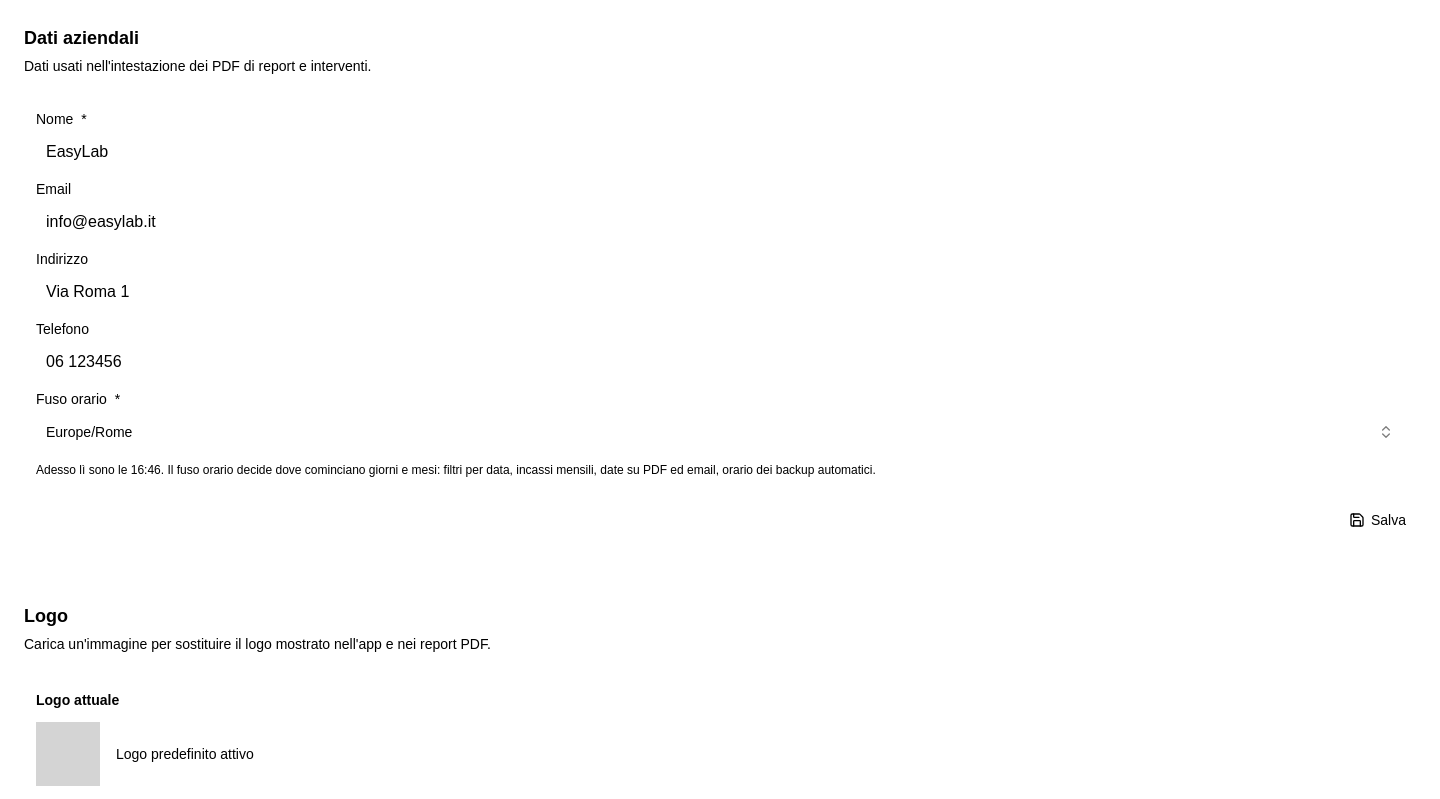
Test: CompanySettingsPanel › cerca anche per città, senza il trattino basso del nome IANA
The image size is (1440, 799).
Expected: the field labelled "Nome *" holds "EasyLab", [36,134,1404,170]
Click the dropdown named "Fuso orario".
click(89, 432)  # box [36,414,1404,450]
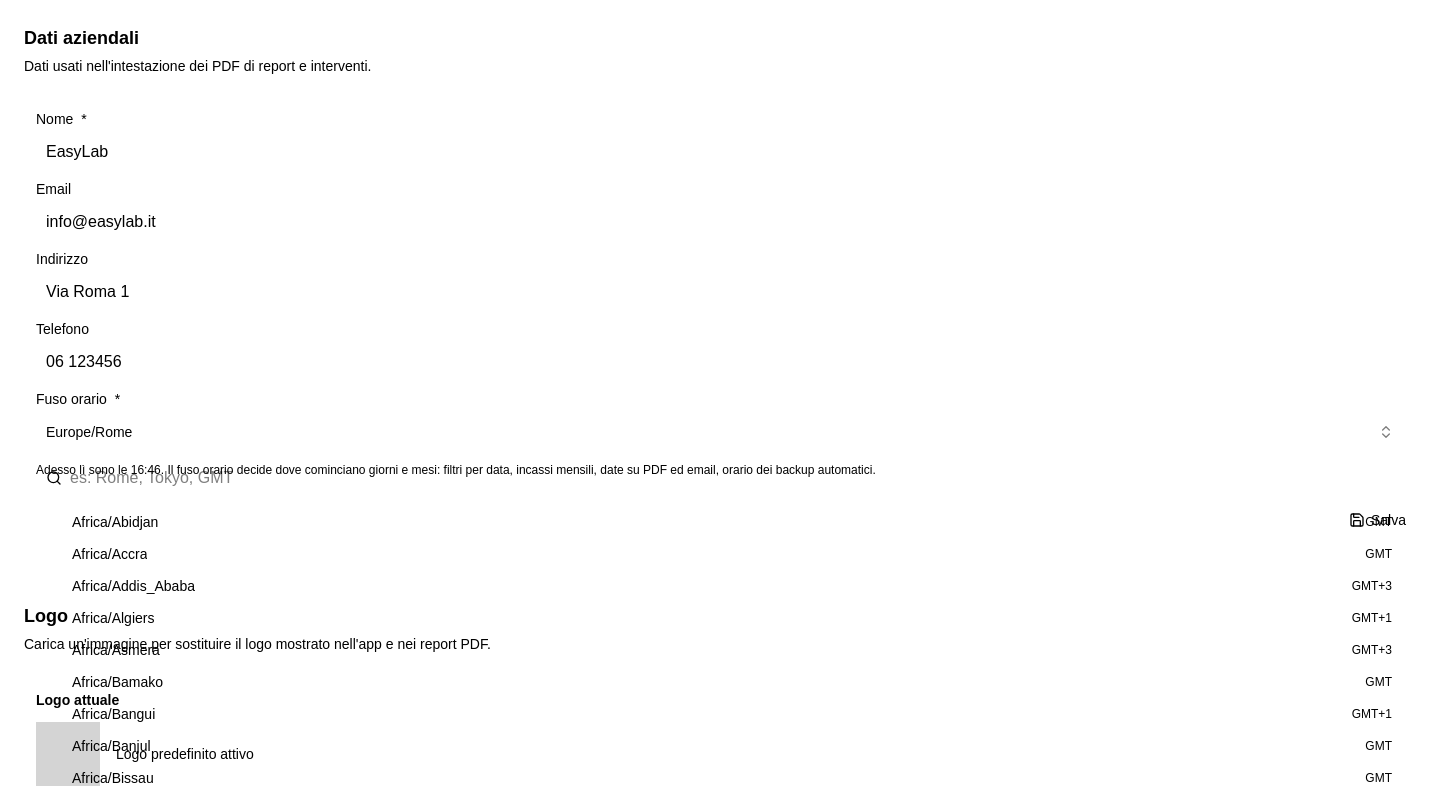
Type "buenos aires" into the field named "Cerca fuso orario".
click(732, 478); type("buenos aires")  # box [70,462,1394,494]
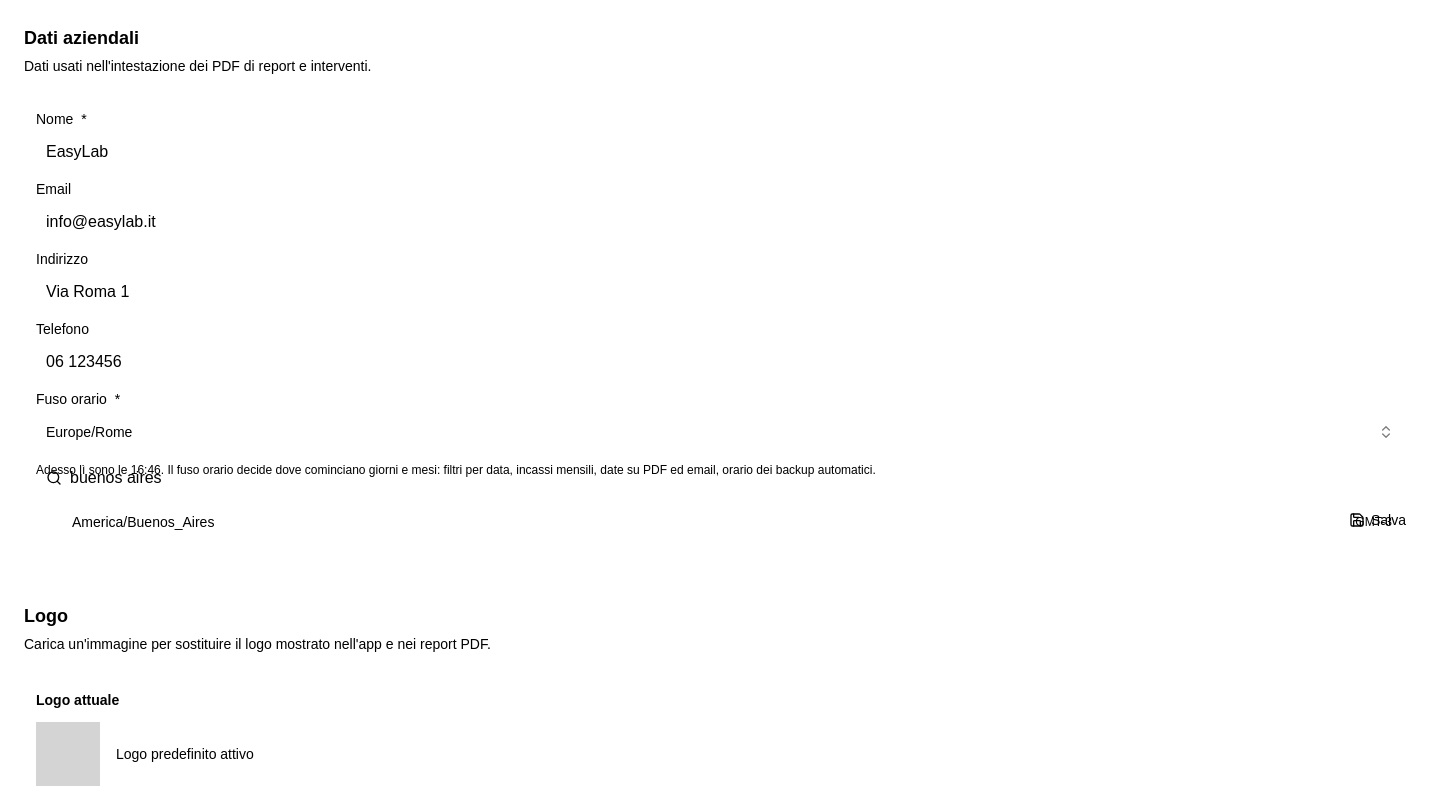
Expected: the option "America/Buenos_Aires GMT-3" is shown, [40,506,1400,538]
